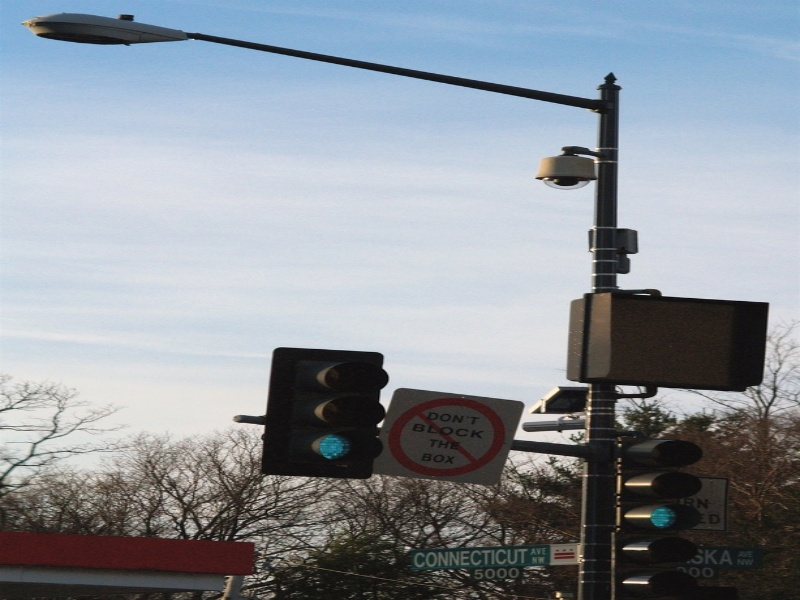green_light: (307, 429, 363, 476)
